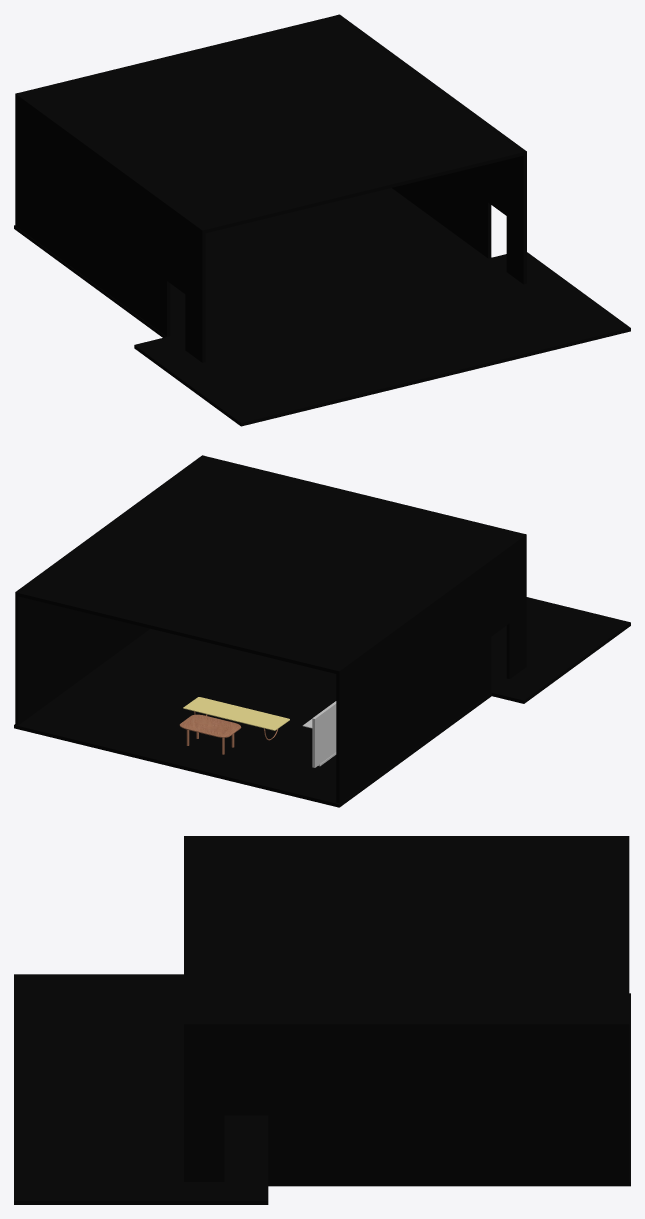
File: house.fbx
The picture shows the model from 3 angles, top to bottom: view 1: azimuth 30°, elevation 25°; view 2: azimuth 150°, elevation 25°; view 3: azimuth 270°, elevation 25°; orthographic projection. The views are drawn at different scales.
Visible parts, largest first — view 1: Cell, 地板(1); view 2: Cell, 地板(1), 立方體.004, 立方體.001, 立方體.007; view 3: Cell, 地板(1).
Boxes of the visible parts, x1,y1,x2,y2 form: Cell: (15, 14, 526, 362); 地板(1): (14, 188, 630, 426); Cell: (15, 455, 526, 803); 地板(1): (14, 597, 630, 807); 立方體.004: (183, 697, 289, 740); 立方體.001: (302, 701, 336, 767); 立方體.007: (179, 714, 241, 754); Cell: (184, 836, 629, 1181); 地板(1): (14, 974, 630, 1204).
Size of the model in its own units: 12030 by 4000 by 13857.
